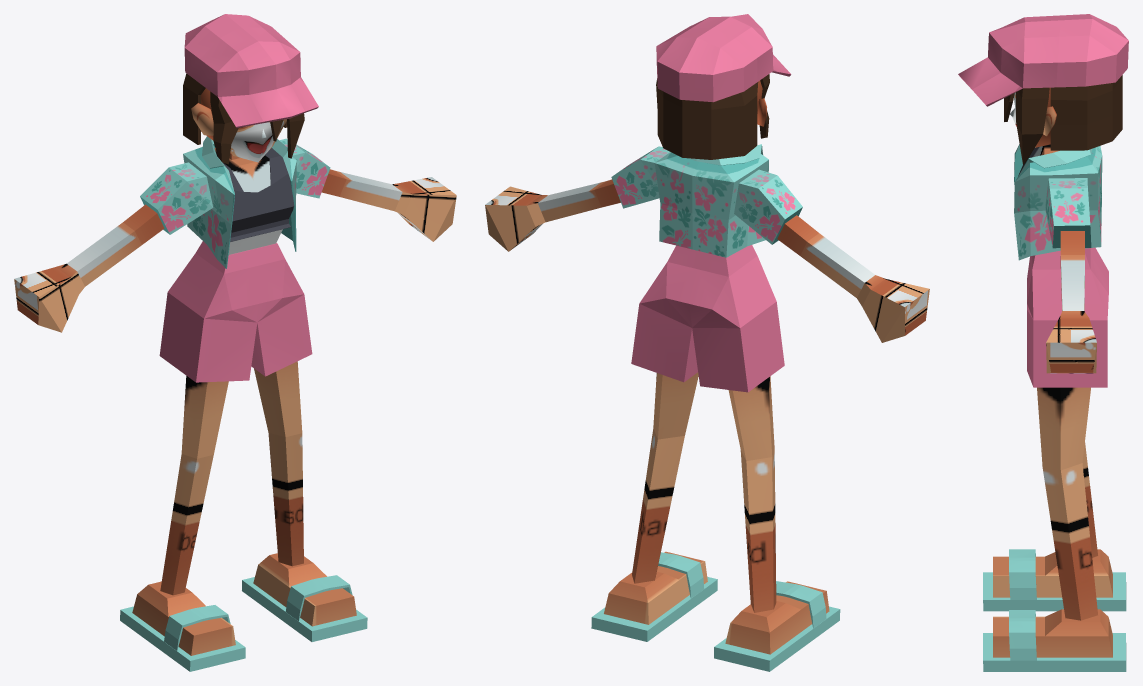
The model's file is Melee Zombie Female Face Shadow Fix.fbx.
The picture shows the model from 3 angles, left to right: view 1: azimuth 30°, elevation 25°; view 2: azimuth 150°, elevation 25°; view 3: azimuth 270°, elevation 25°; orthographic projection.
Visible parts, largest first — view 1: hat, Skirt Legging right, Female Songkran.001, Lower_Right_Leg, Short.002, Skirt Legging left, Lower_Left_Leg, Right_ Foot, Bra.001, Left_Foot, Right_Hand, Female Songkran Right.001 (+13 smaller); view 2: Skirt Legging right, Female Songkran.001, hat, hair, Lower_Right_Leg, Skirt Legging left, Lower_Left_Leg, Short.002, Right_ Foot, Left_Foot, Right_Hand, Right__Flipflop.002 (+9 smaller); view 3: hat, hair, Female Songkran.001, Skirt Legging left, Lower_Left_Leg, Left__Flipflop.001, Left_Foot, Upper_Left_Leg.001, Right__Flipflop.002, Left_Hand, Female Songkran Left.001, Right_ Foot (+4 smaller).
Part boxes in pixels (x1,y1,x2,y2): hat: (184, 14, 318, 127); Skirt Legging right: (159, 253, 257, 382); Female Songkran.001: (183, 136, 296, 268); Lower_Right_Leg: (160, 454, 213, 595); Short.002: (196, 241, 285, 322); Skirt Legging left: (251, 259, 312, 376); Lower_Left_Leg: (268, 432, 303, 566); Right_ Foot: (132, 581, 235, 655); Bra.001: (222, 147, 294, 241); Left_Foot: (253, 553, 356, 626); Right_Hand: (14, 263, 84, 332); Female Songkran Right.001: (140, 162, 213, 234); Skirt Legging right: (692, 256, 784, 392); Female Songkran.001: (654, 144, 768, 257); hat: (656, 14, 791, 102); hair: (656, 74, 769, 159); Lower_Right_Leg: (740, 450, 776, 612); Skirt Legging left: (631, 262, 697, 382); Lower_Left_Leg: (632, 428, 684, 583); Short.002: (666, 245, 757, 327); Right_ Foot: (725, 581, 829, 654); Left_Foot: (604, 551, 707, 624); Right_Hand: (857, 275, 929, 342); Right__Flipflop.002: (714, 581, 840, 671); hat: (958, 14, 1128, 106); hair: (1004, 75, 1122, 164); Female Songkran.001: (1014, 144, 1102, 260); Skirt Legging left: (1027, 269, 1108, 387); Lower_Left_Leg: (1042, 463, 1097, 620); Left__Flipflop.001: (983, 610, 1126, 671); Left_Foot: (993, 609, 1112, 657); Upper_Left_Leg.001: (1037, 387, 1090, 470); Right__Flipflop.002: (983, 549, 1126, 611); Left_Hand: (1046, 311, 1096, 373); Female Songkran Left.001: (1045, 178, 1091, 248); Right_ Foot: (993, 549, 1112, 597).
Size of the model in its own units: 128 by 175 by 44.39.
